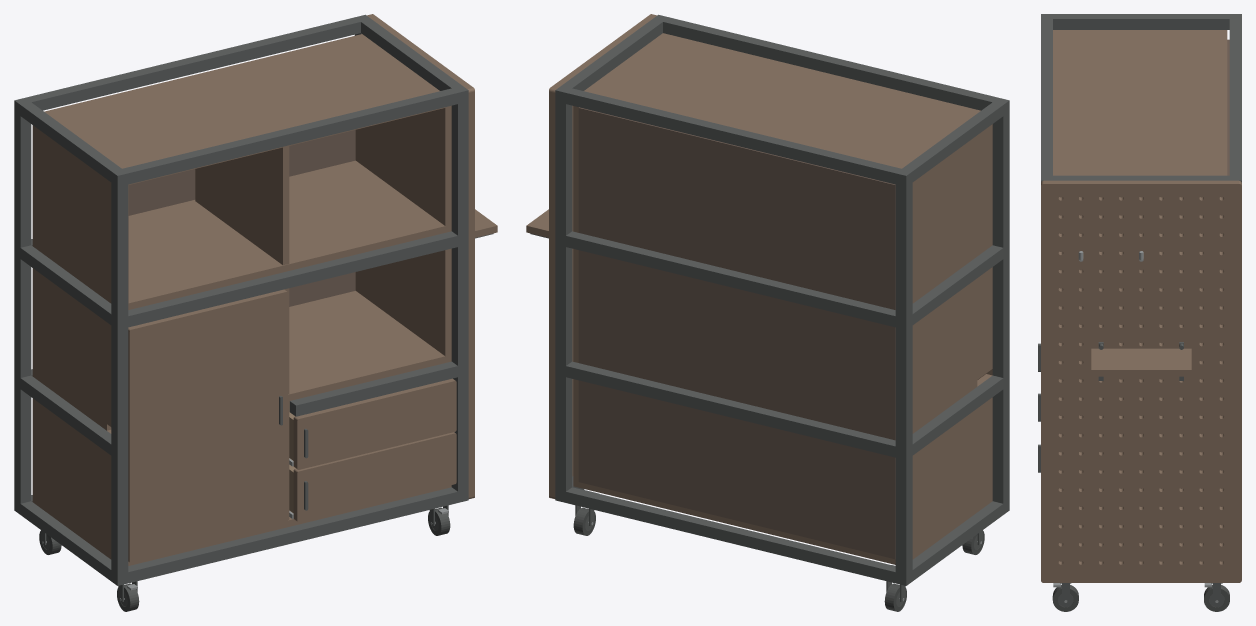
The model's file is outside-closed.glb.
3 renders of one model, left to right at view 1: azimuth 30°, elevation 25°; view 2: azimuth 150°, elevation 25°; view 3: azimuth 270°, elevation 25°, orthographic. The views are drawn at different scales.
Parts seen in each view (by area): view 1: left-tall-door, shelf-3, shelf-2, shelf-1, side-left-2, drawer-1-face, drawer-0-face, side-left-1, side-left-0, side-right-2, partition-2, profile-post-0-0 (+16 smaller); view 2: back-panel, shelf-3, side-left-2, side-left-1, side-left-0, profile-post-0-470, profile-post-952-470, profile-post-0-0, profile-cross-3-470, profile-cross-0-470, profile-cross-1-470, profile-cross-2-470 (+11 smaller); view 3: pegboard-full-right, shelf-3, accessory-shelf, profile-depth-3-0, profile-cross-3-470, profile-cross-3-0, profile-depth-3-952, back-panel, caster-1-tire, caster-3-tire, side-right-2.
Boxes of the visible parts, left/top/right/bottom form: left-tall-door: left=128, top=289, right=287, bottom=563; shelf-3: left=44, top=34, right=451, bottom=184; shelf-2: left=32, top=160, right=451, bottom=309; shelf-1: left=32, top=291, right=451, bottom=430; side-left-2: left=32, top=125, right=128, bottom=302; drawer-1-face: left=293, top=378, right=456, bottom=469; drawer-0-face: left=293, top=432, right=456, bottom=522; side-left-1: left=32, top=268, right=111, bottom=426; side-left-0: left=32, top=398, right=111, bottom=552; side-right-2: left=355, top=106, right=451, bottom=225; partition-2: left=195, top=146, right=289, bottom=265; profile-post-0-0: left=111, top=169, right=128, bottom=585; back-panel: left=578, top=107, right=895, bottom=559; shelf-3: left=584, top=33, right=980, bottom=168; side-left-2: left=912, top=124, right=992, bottom=296; side-left-1: left=912, top=267, right=992, bottom=426; side-left-0: left=912, top=374, right=992, bottom=552; profile-post-0-470: left=895, top=169, right=912, bottom=585; profile-post-952-470: left=555, top=85, right=572, bottom=502; profile-post-0-0: left=992, top=98, right=1009, bottom=514; profile-cross-3-470: left=566, top=88, right=901, bottom=184; profile-cross-0-470: left=566, top=487, right=895, bottom=583; profile-cross-1-470: left=566, top=361, right=895, bottom=457; profile-cross-2-470: left=566, top=231, right=895, bottom=327; pegboard-full-right: left=1041, top=180, right=1241, bottom=582; shelf-3: left=1053, top=30, right=1227, bottom=175; accessory-shelf: left=1091, top=348, right=1191, bottom=376; profile-depth-3-0: left=1053, top=14, right=1229, bottom=29; profile-cross-3-470: left=1229, top=19, right=1241, bottom=175; profile-cross-3-0: left=1041, top=19, right=1052, bottom=175; profile-depth-3-952: left=1053, top=175, right=1229, bottom=180; back-panel: left=1227, top=39, right=1229, bottom=175; caster-1-tire: left=1052, top=584, right=1078, bottom=611; caster-3-tire: left=1204, top=584, right=1229, bottom=611; side-right-2: left=1059, top=196, right=1223, bottom=306.
Size of the model in its own units: 1.13 by 1.2 by 0.507.
